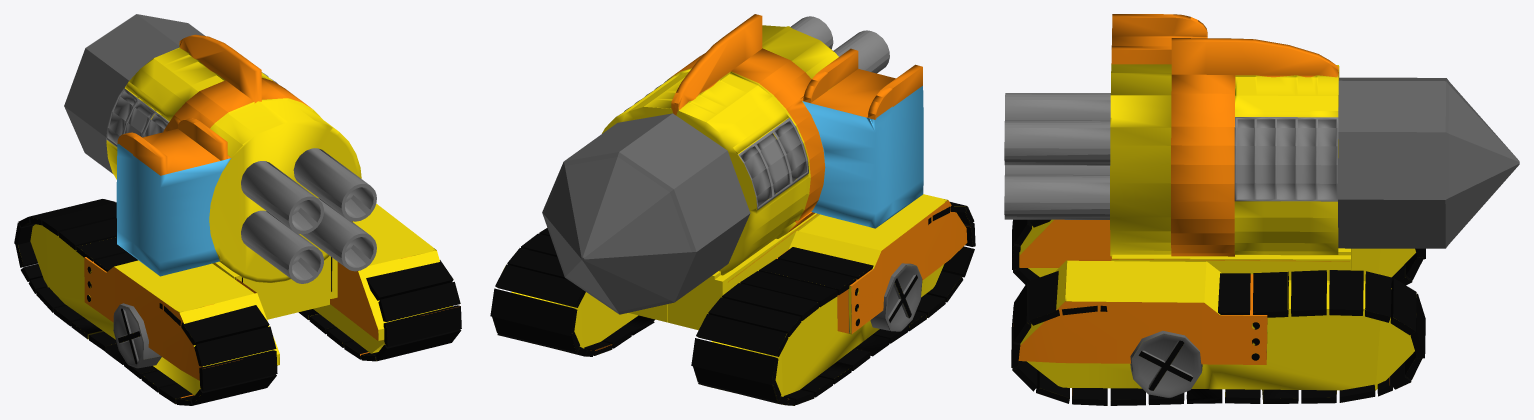
The model's file is Esbadora_Lapiz_Completo.fbx.
3 renders of one model, left to right at view 1: azimuth 30°, elevation 25°; view 2: azimuth 150°, elevation 25°; view 3: azimuth 270°, elevation 25°, orthographic. The views are drawn at different scales.
Parts seen in each view (by area): view 1: Cube.064, Llanta.011, Llanta.009, Cube.066, Cube.065, Llanta.015; view 2: Cube.064, Llanta.011, Cube.066, Llanta.009, Cube.065, Llanta.015; view 3: Cube.064, Llanta.009, Cube.066, Llanta.011, Llanta.016, Cube.065.
Boxes of the visible parts, box(x1,y1,x2,y2) form: Cube.064: box(106, 34, 376, 283); Llanta.011: box(14, 199, 279, 405); Llanta.009: box(298, 204, 461, 361); Cube.066: box(64, 14, 204, 173); Cube.065: box(215, 256, 330, 319); Llanta.015: box(113, 303, 161, 368); Cube.064: box(602, 14, 923, 275); Llanta.011: box(691, 194, 975, 405); Cube.066: box(542, 113, 750, 314); Llanta.009: box(490, 228, 654, 356); Cube.065: box(628, 213, 816, 330); Llanta.015: box(870, 263, 922, 331); Cube.064: box(1004, 14, 1339, 256); Llanta.009: box(1011, 259, 1425, 405); Cube.066: box(1338, 77, 1519, 248); Llanta.011: box(1012, 219, 1425, 285); Llanta.016: box(1130, 330, 1202, 398); Cube.065: box(1112, 248, 1351, 270).
Size of the model in its own units: 7.87 by 7.54 by 11.86.
6 materials, 6 textured.
